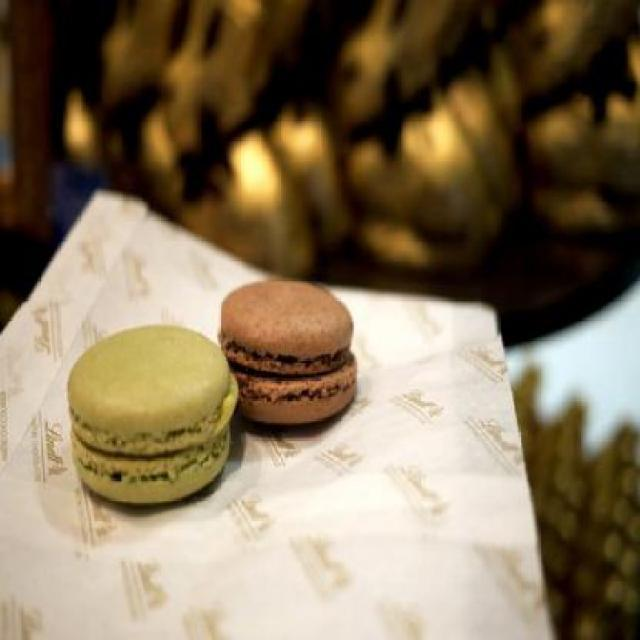Macaron: (65, 277, 362, 511)
